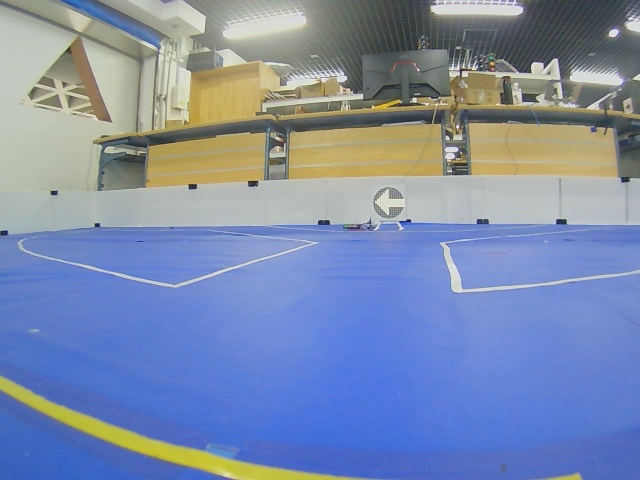left_yellow: (373, 187, 405, 219)
